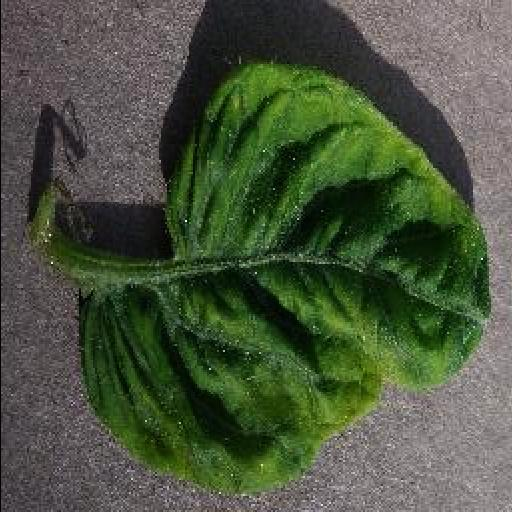disease_tomato: (79, 58, 493, 494)
